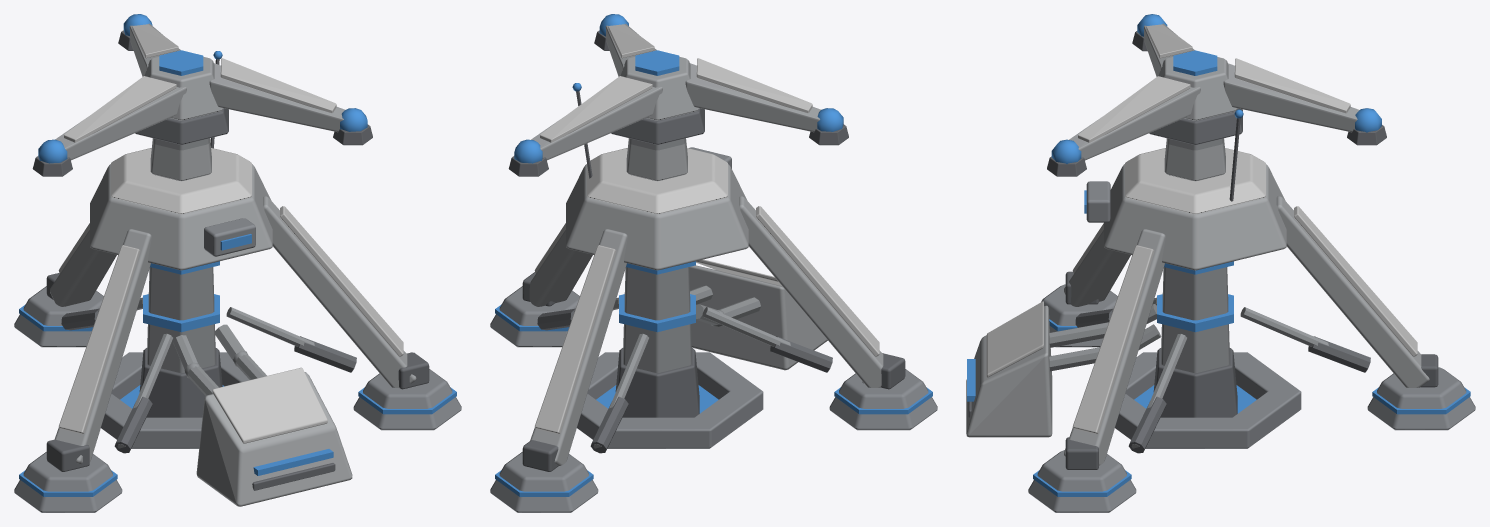
Rendered from lattice_metal_extractor.glb.
3 views of the same model, side by side, from view 1: azimuth 30°, elevation 25°; view 2: azimuth 150°, elevation 25°; view 3: azimuth 270°, elevation 25° (orthographic).
Parts seen in each view (by area): view 1: Body, Rotor_Y; view 2: Body, Rotor_Y; view 3: Body, Rotor_Y.
Boxes of the visible parts, x1,y1,x2,y2 form: Body: (14,51,461,512); Rotor_Y: (32,14,372,176); Body: (490,83,937,512); Rotor_Y: (508,14,848,176); Body: (966,108,1475,512); Rotor_Y: (1047,14,1386,176).
Size of the model in its own units: 6.15 by 4.86 by 6.42.
